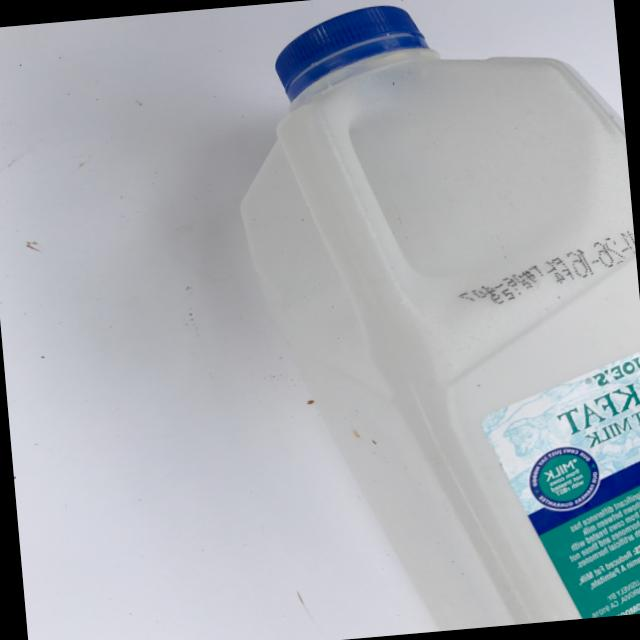Plastic: (149, 0, 640, 640)
